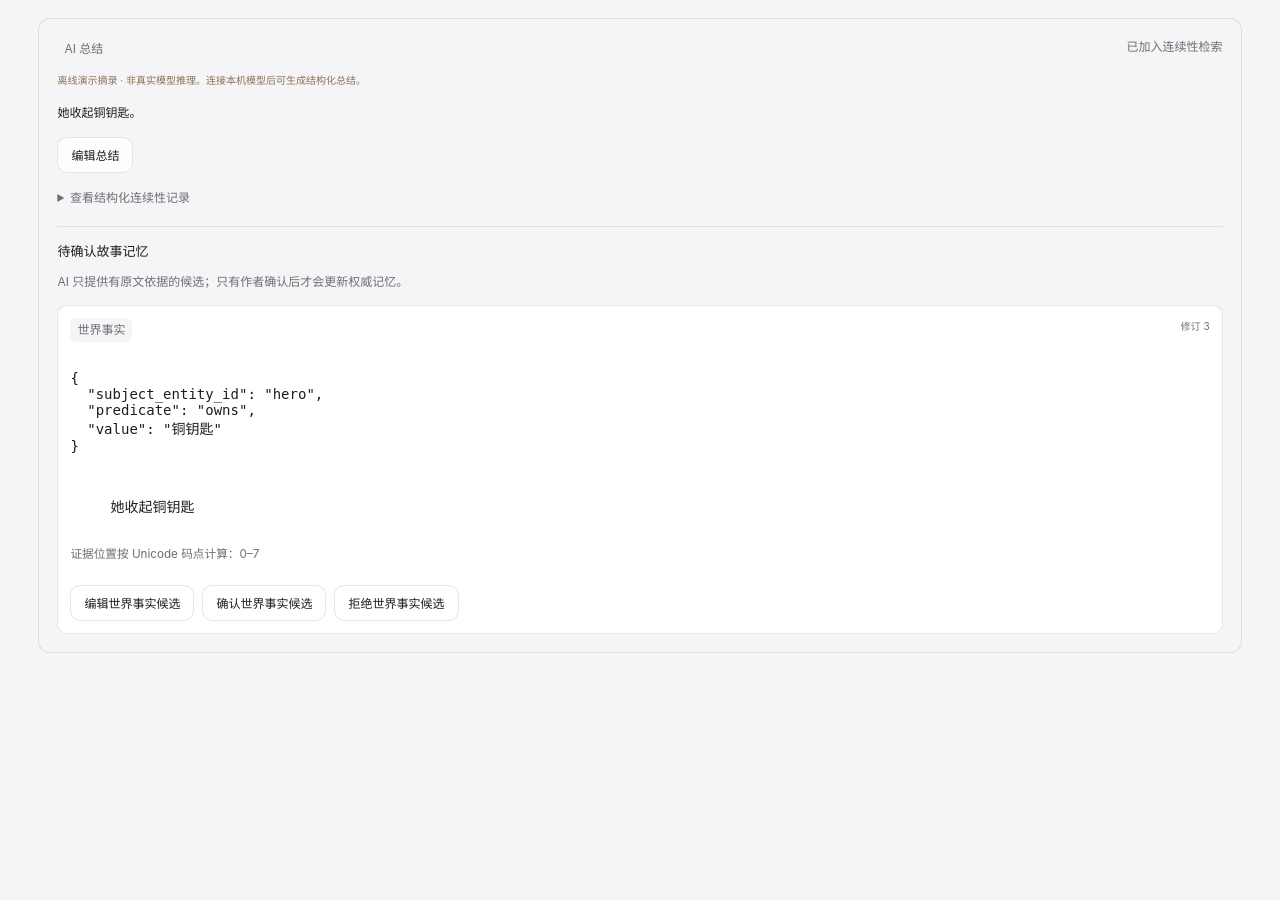
rejects an empty evidence offset before invoking the candidate API
The image size is (1280, 900).
Click the button "编辑世界事实候选" at (132, 603), box [70,585,194,621]
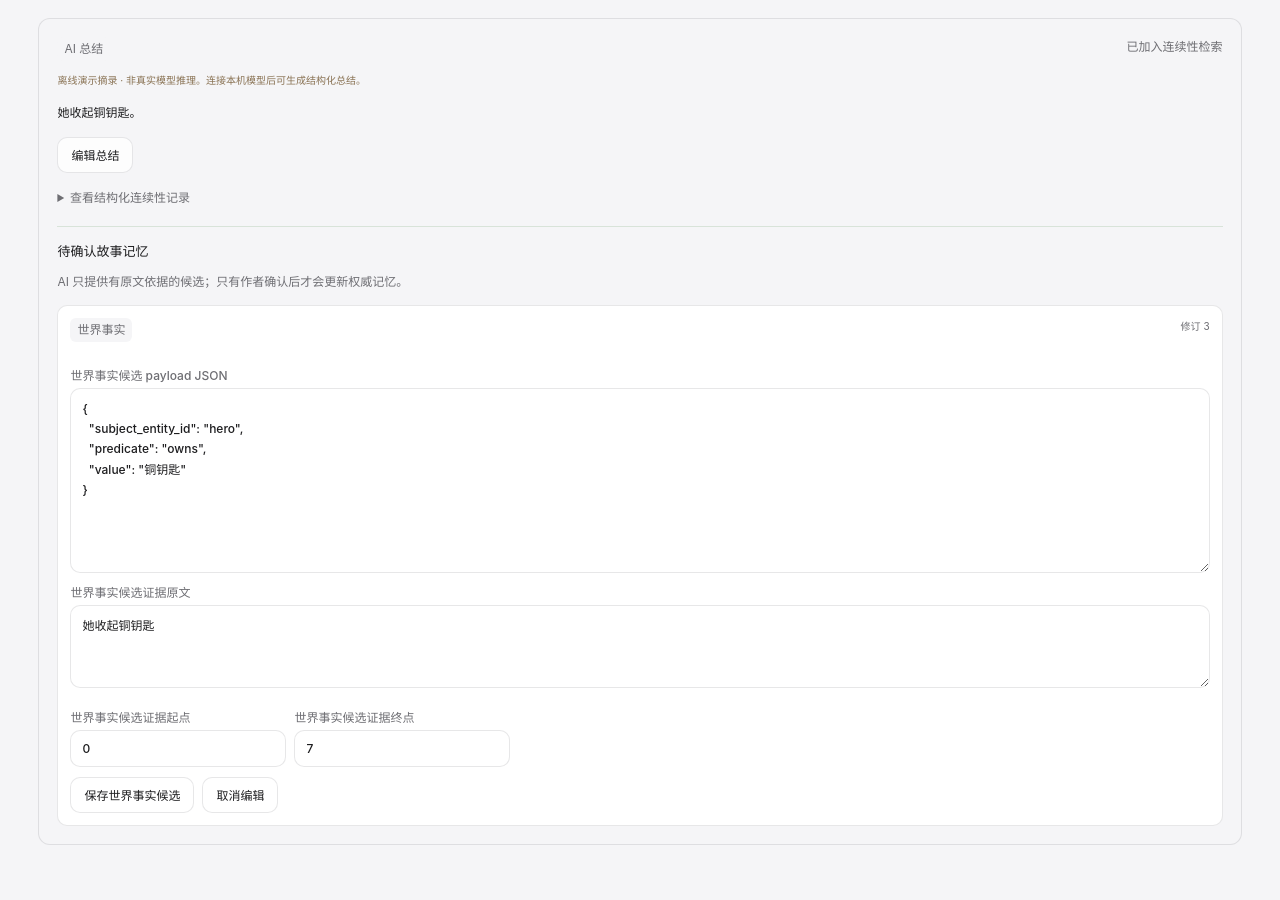
Clear the number field labelled "世界事实候选证据起点" at (178, 748), box [70,730,286,767]
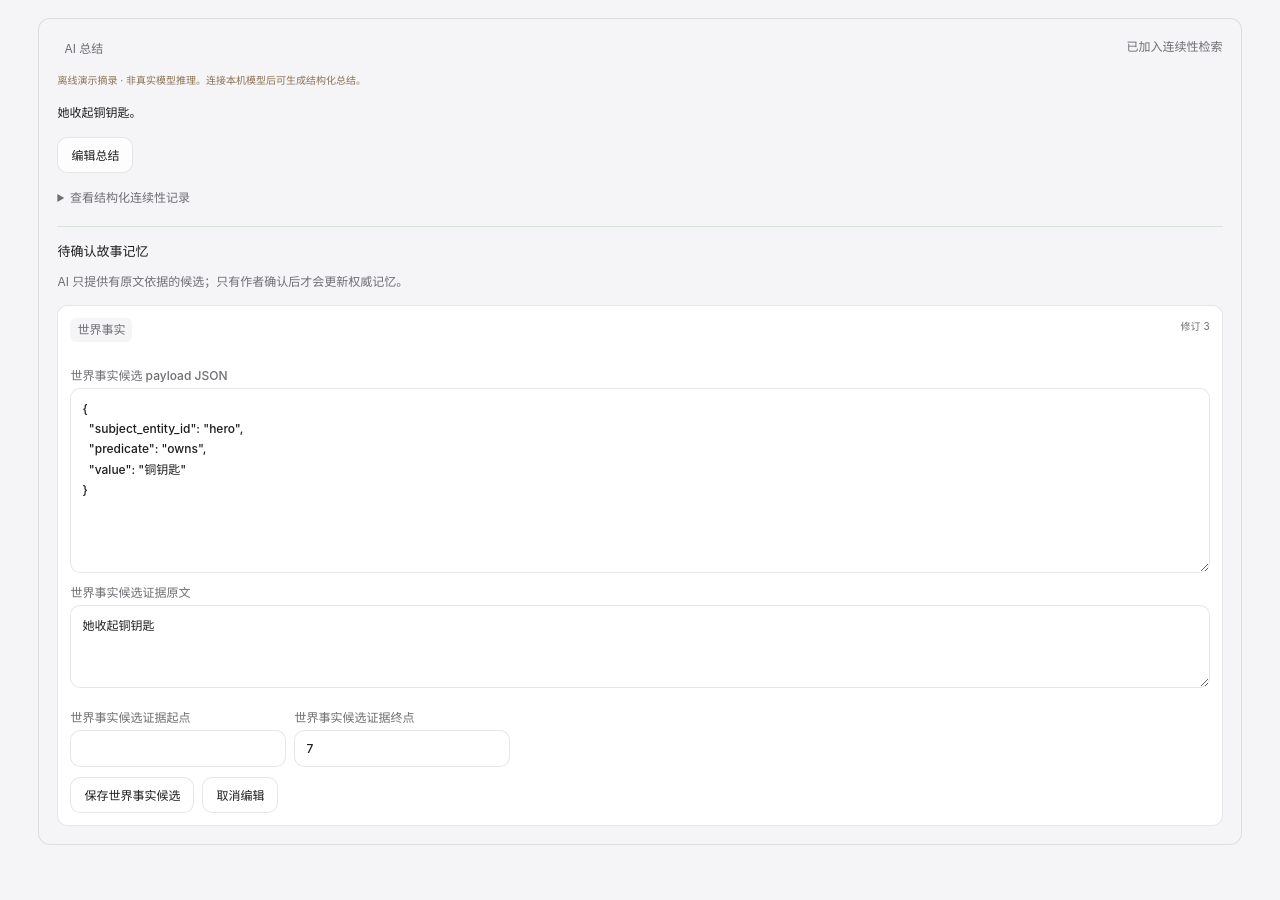
Click the button "保存世界事实候选" at (132, 795), box [70,777,194,813]
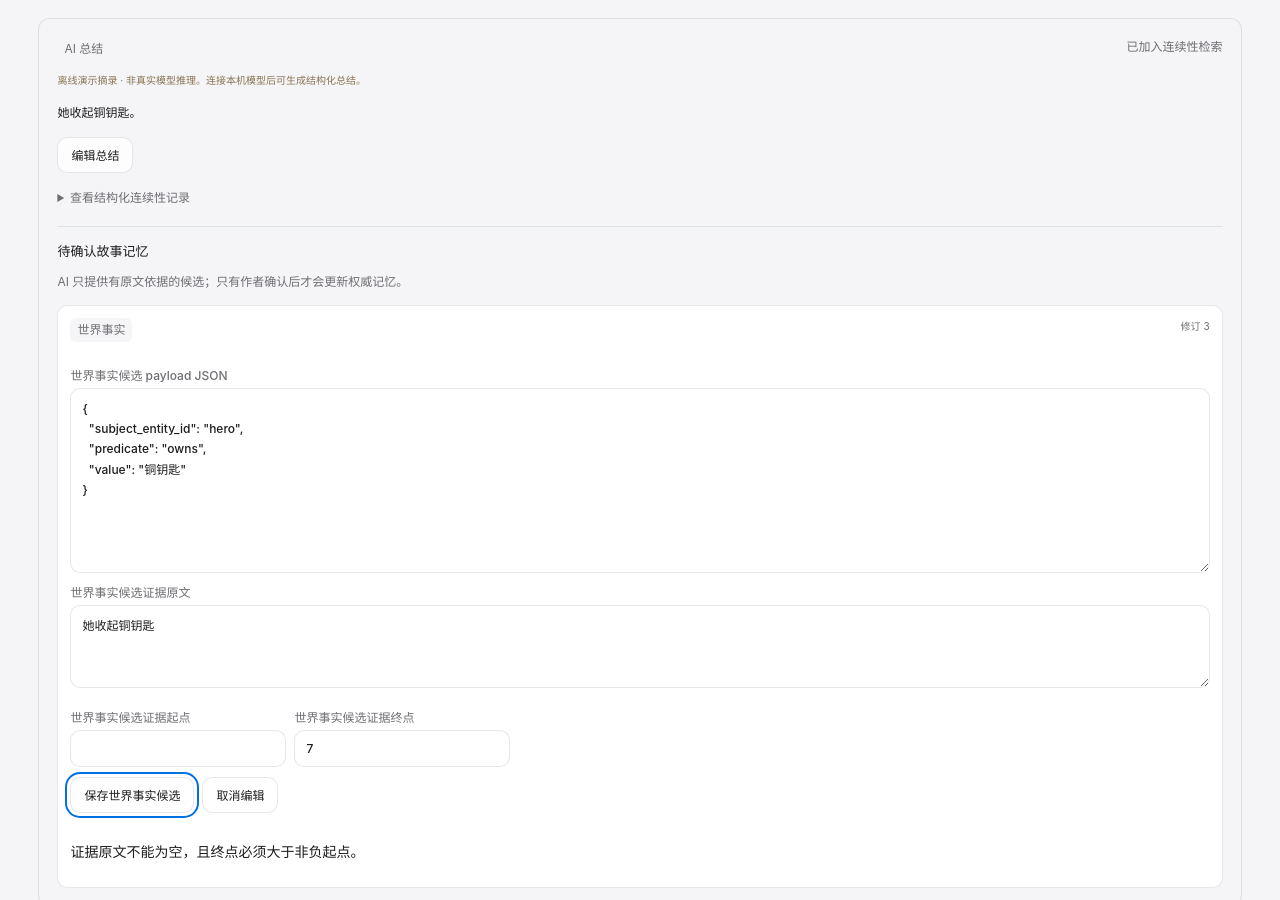
Result: the message shows "证据原文不能为空" at [70,843,364,860]
